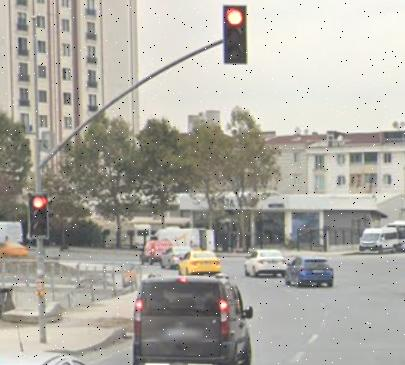redlight: (224, 4, 249, 66), (26, 191, 46, 238)
